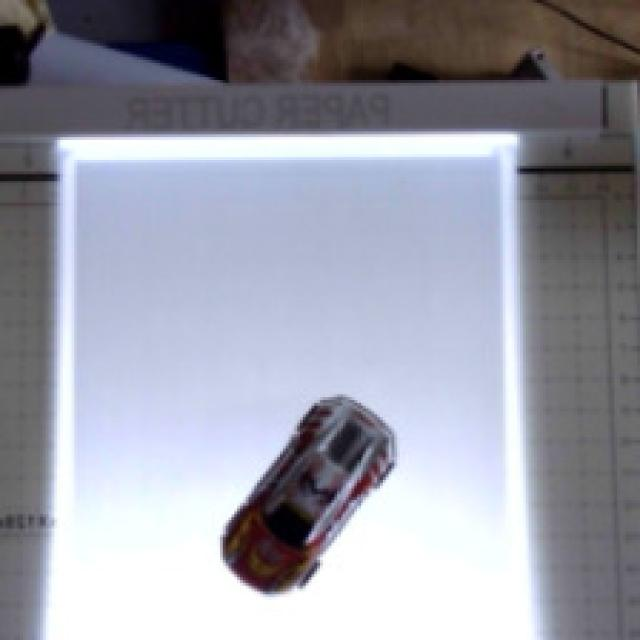Red Car: (190, 372, 430, 619)
